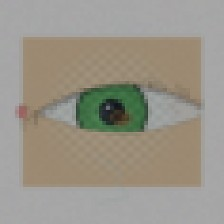foreign_body_visible: (97, 101, 138, 134)
